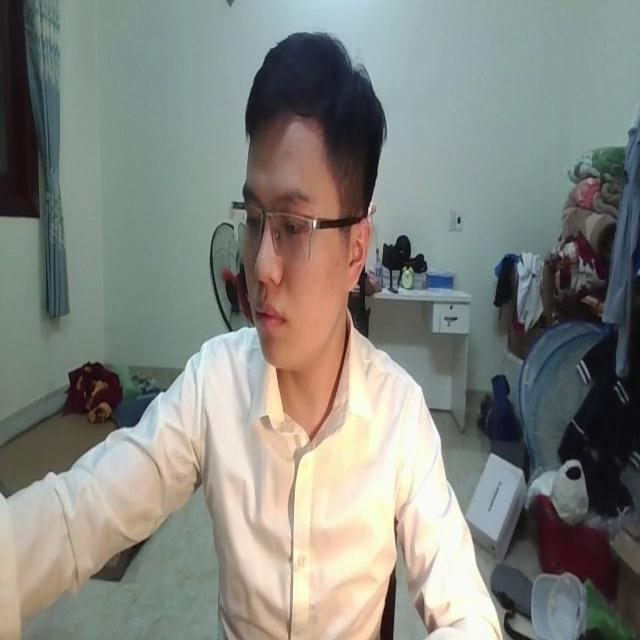student: (1, 28, 505, 640)
